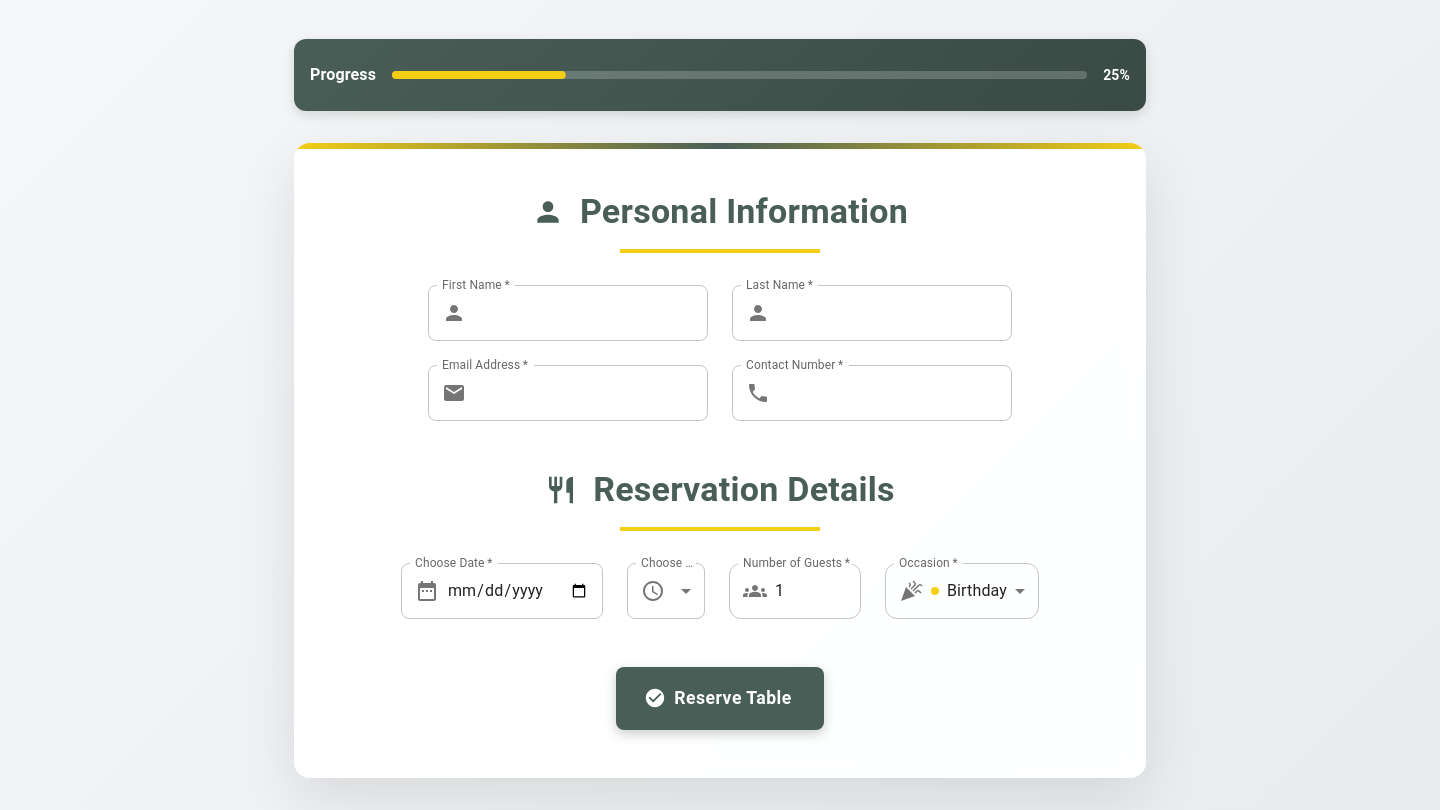
it: BookingForm with Formik validation › shows validation error if required fields are empty and form is submitted
(page scrolled)
# Try to submit with empty form
Click the button "Reserve Table".
click(720, 698)  # box [616,667,824,730]
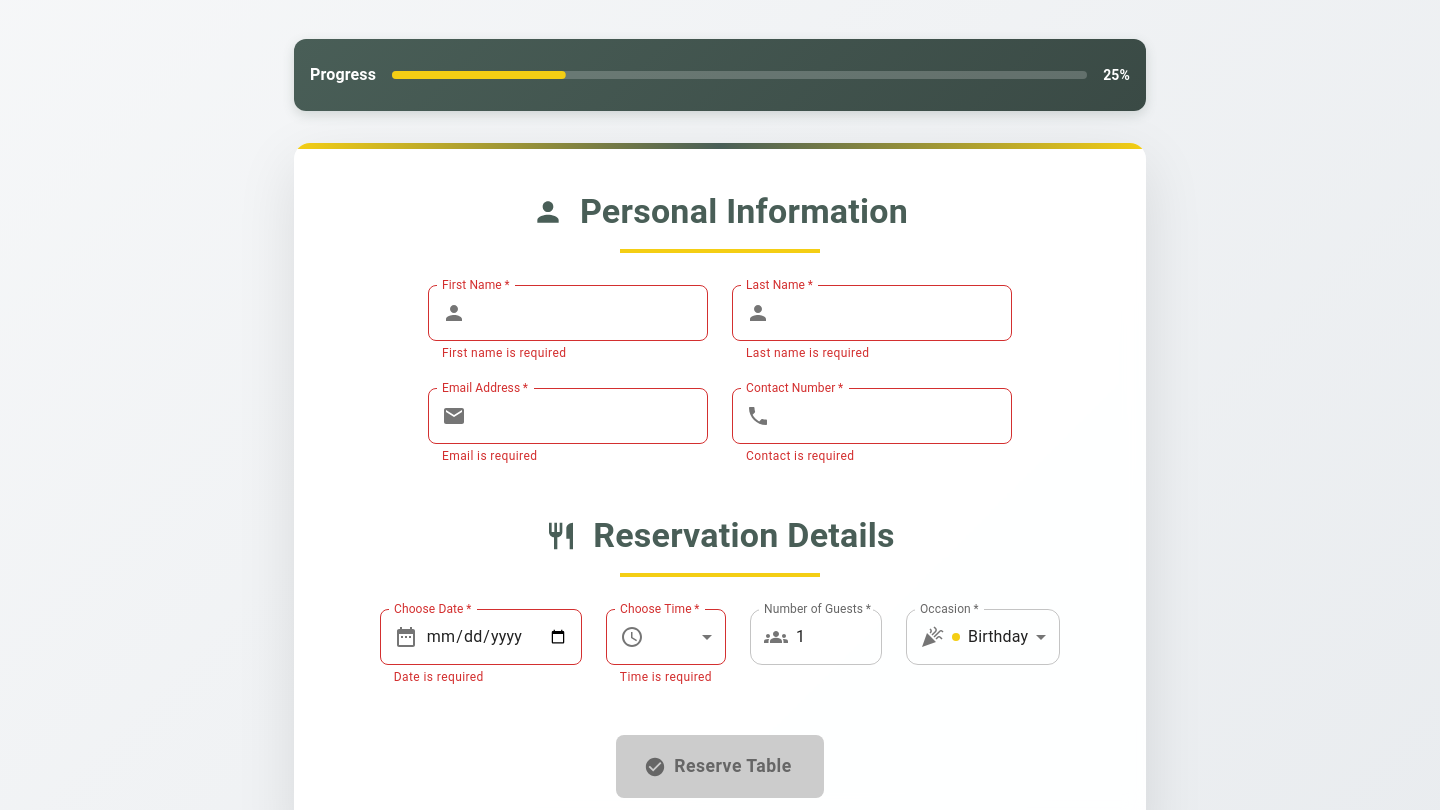
Now the text "First name is required" is shown, box [442,346,566,360]
Now the text "Last name is required" is shown, box [746,346,869,360]
Now the text "Email is required" is shown, box [442,449,537,463]
